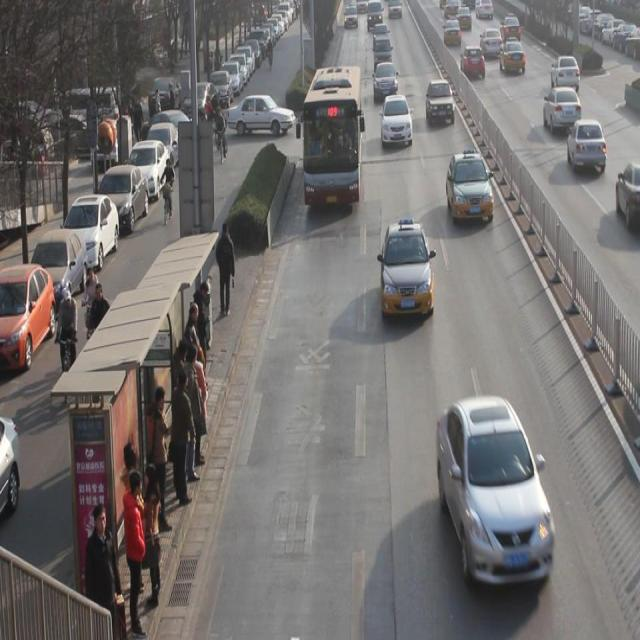car: (435, 395, 556, 585), (380, 220, 434, 316), (446, 149, 495, 223), (568, 117, 606, 172), (543, 84, 582, 131), (616, 159, 640, 232), (382, 92, 414, 144), (426, 77, 456, 123), (551, 53, 580, 89), (374, 59, 398, 99), (501, 34, 526, 72), (461, 43, 486, 78), (479, 27, 504, 56), (500, 10, 522, 36), (444, 16, 462, 44), (374, 20, 388, 44)
truck: (374, 33, 392, 64)
van: (302, 66, 362, 208)
